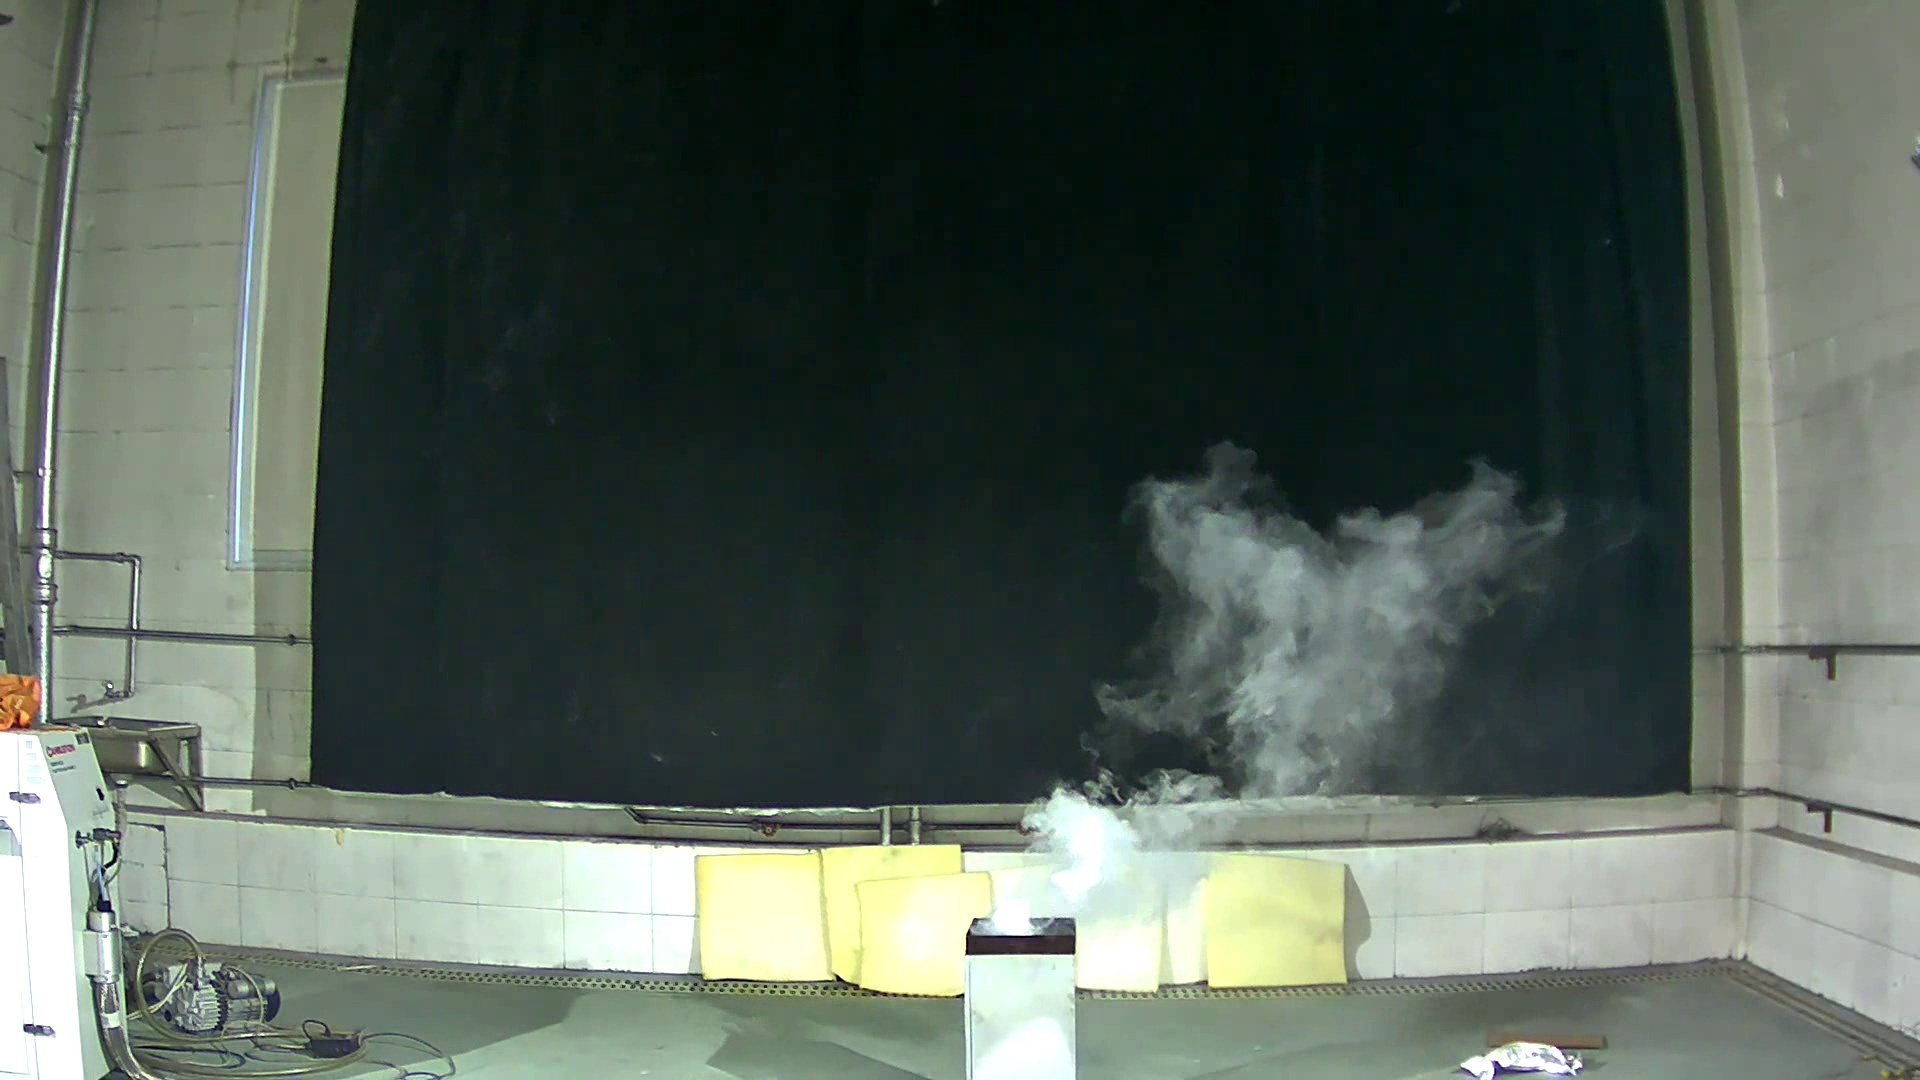smoke: (986, 451, 1577, 922)
